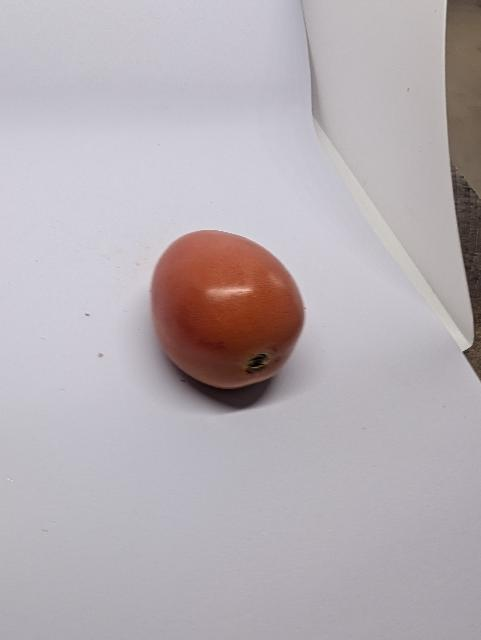red: (146, 226, 309, 392)
